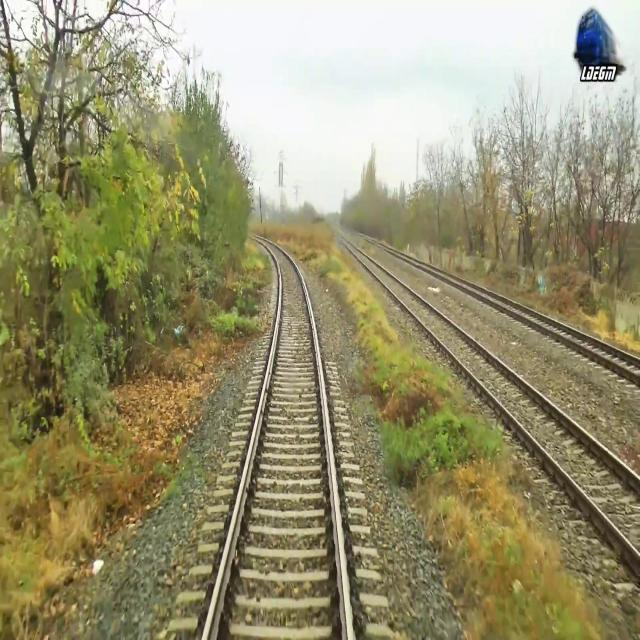rail-track: (342, 237, 640, 552), (207, 236, 348, 639), (360, 234, 640, 372)
